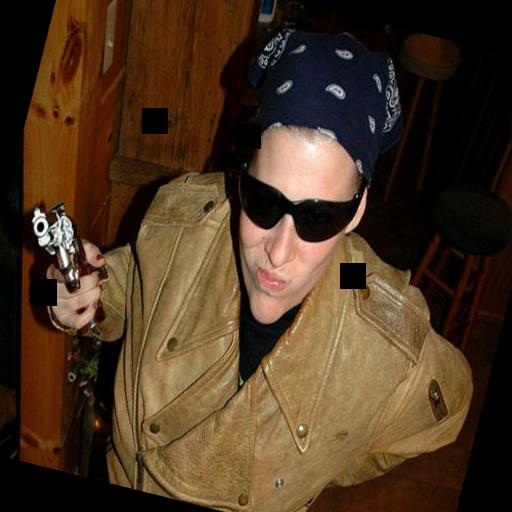Handgun: (9, 189, 126, 320)
